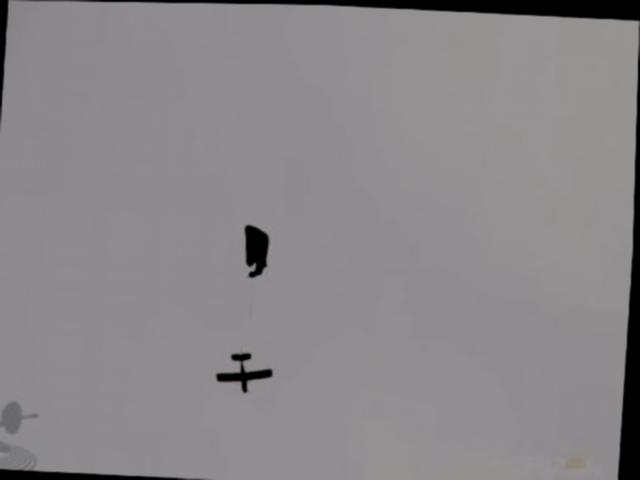uav: (216, 346, 279, 397)
